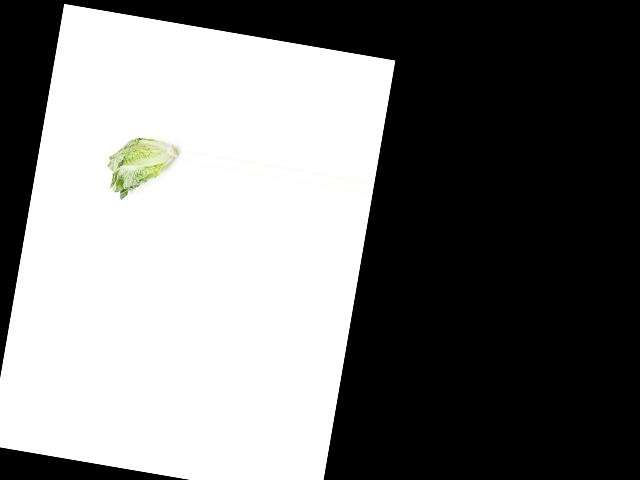lettuce: (99, 129, 178, 206)
